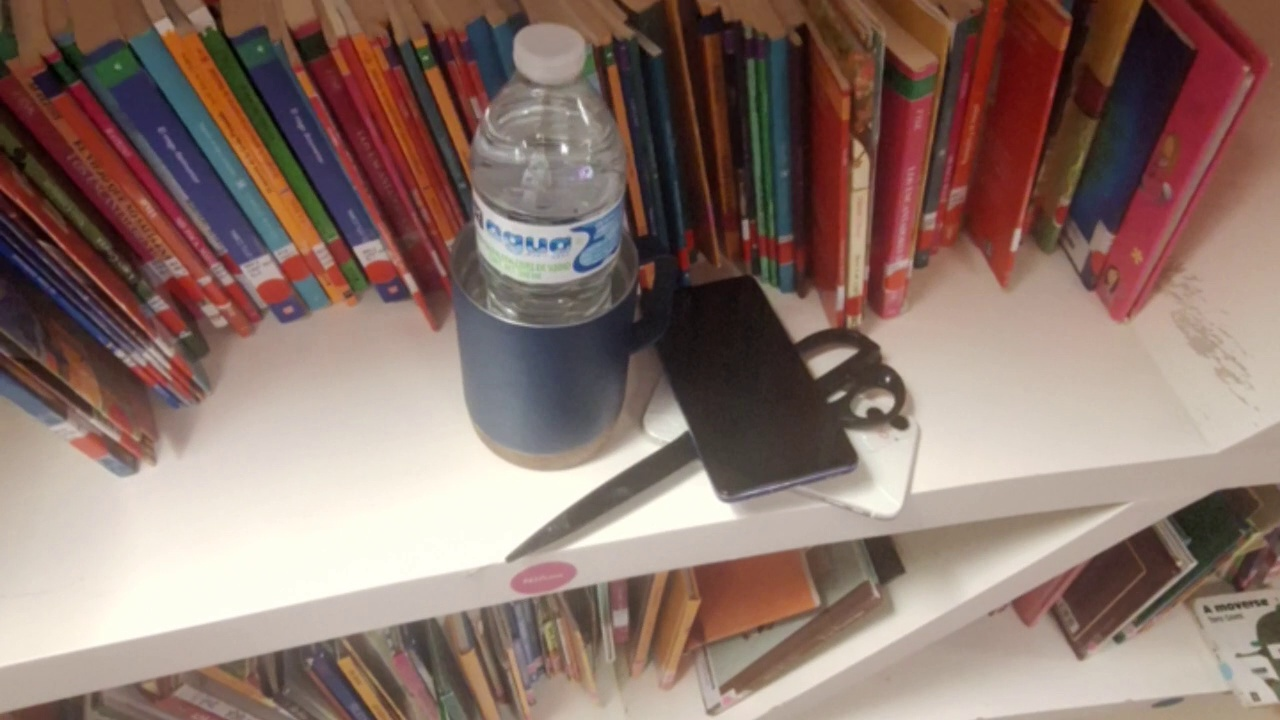botella: (450, 21, 644, 472)
